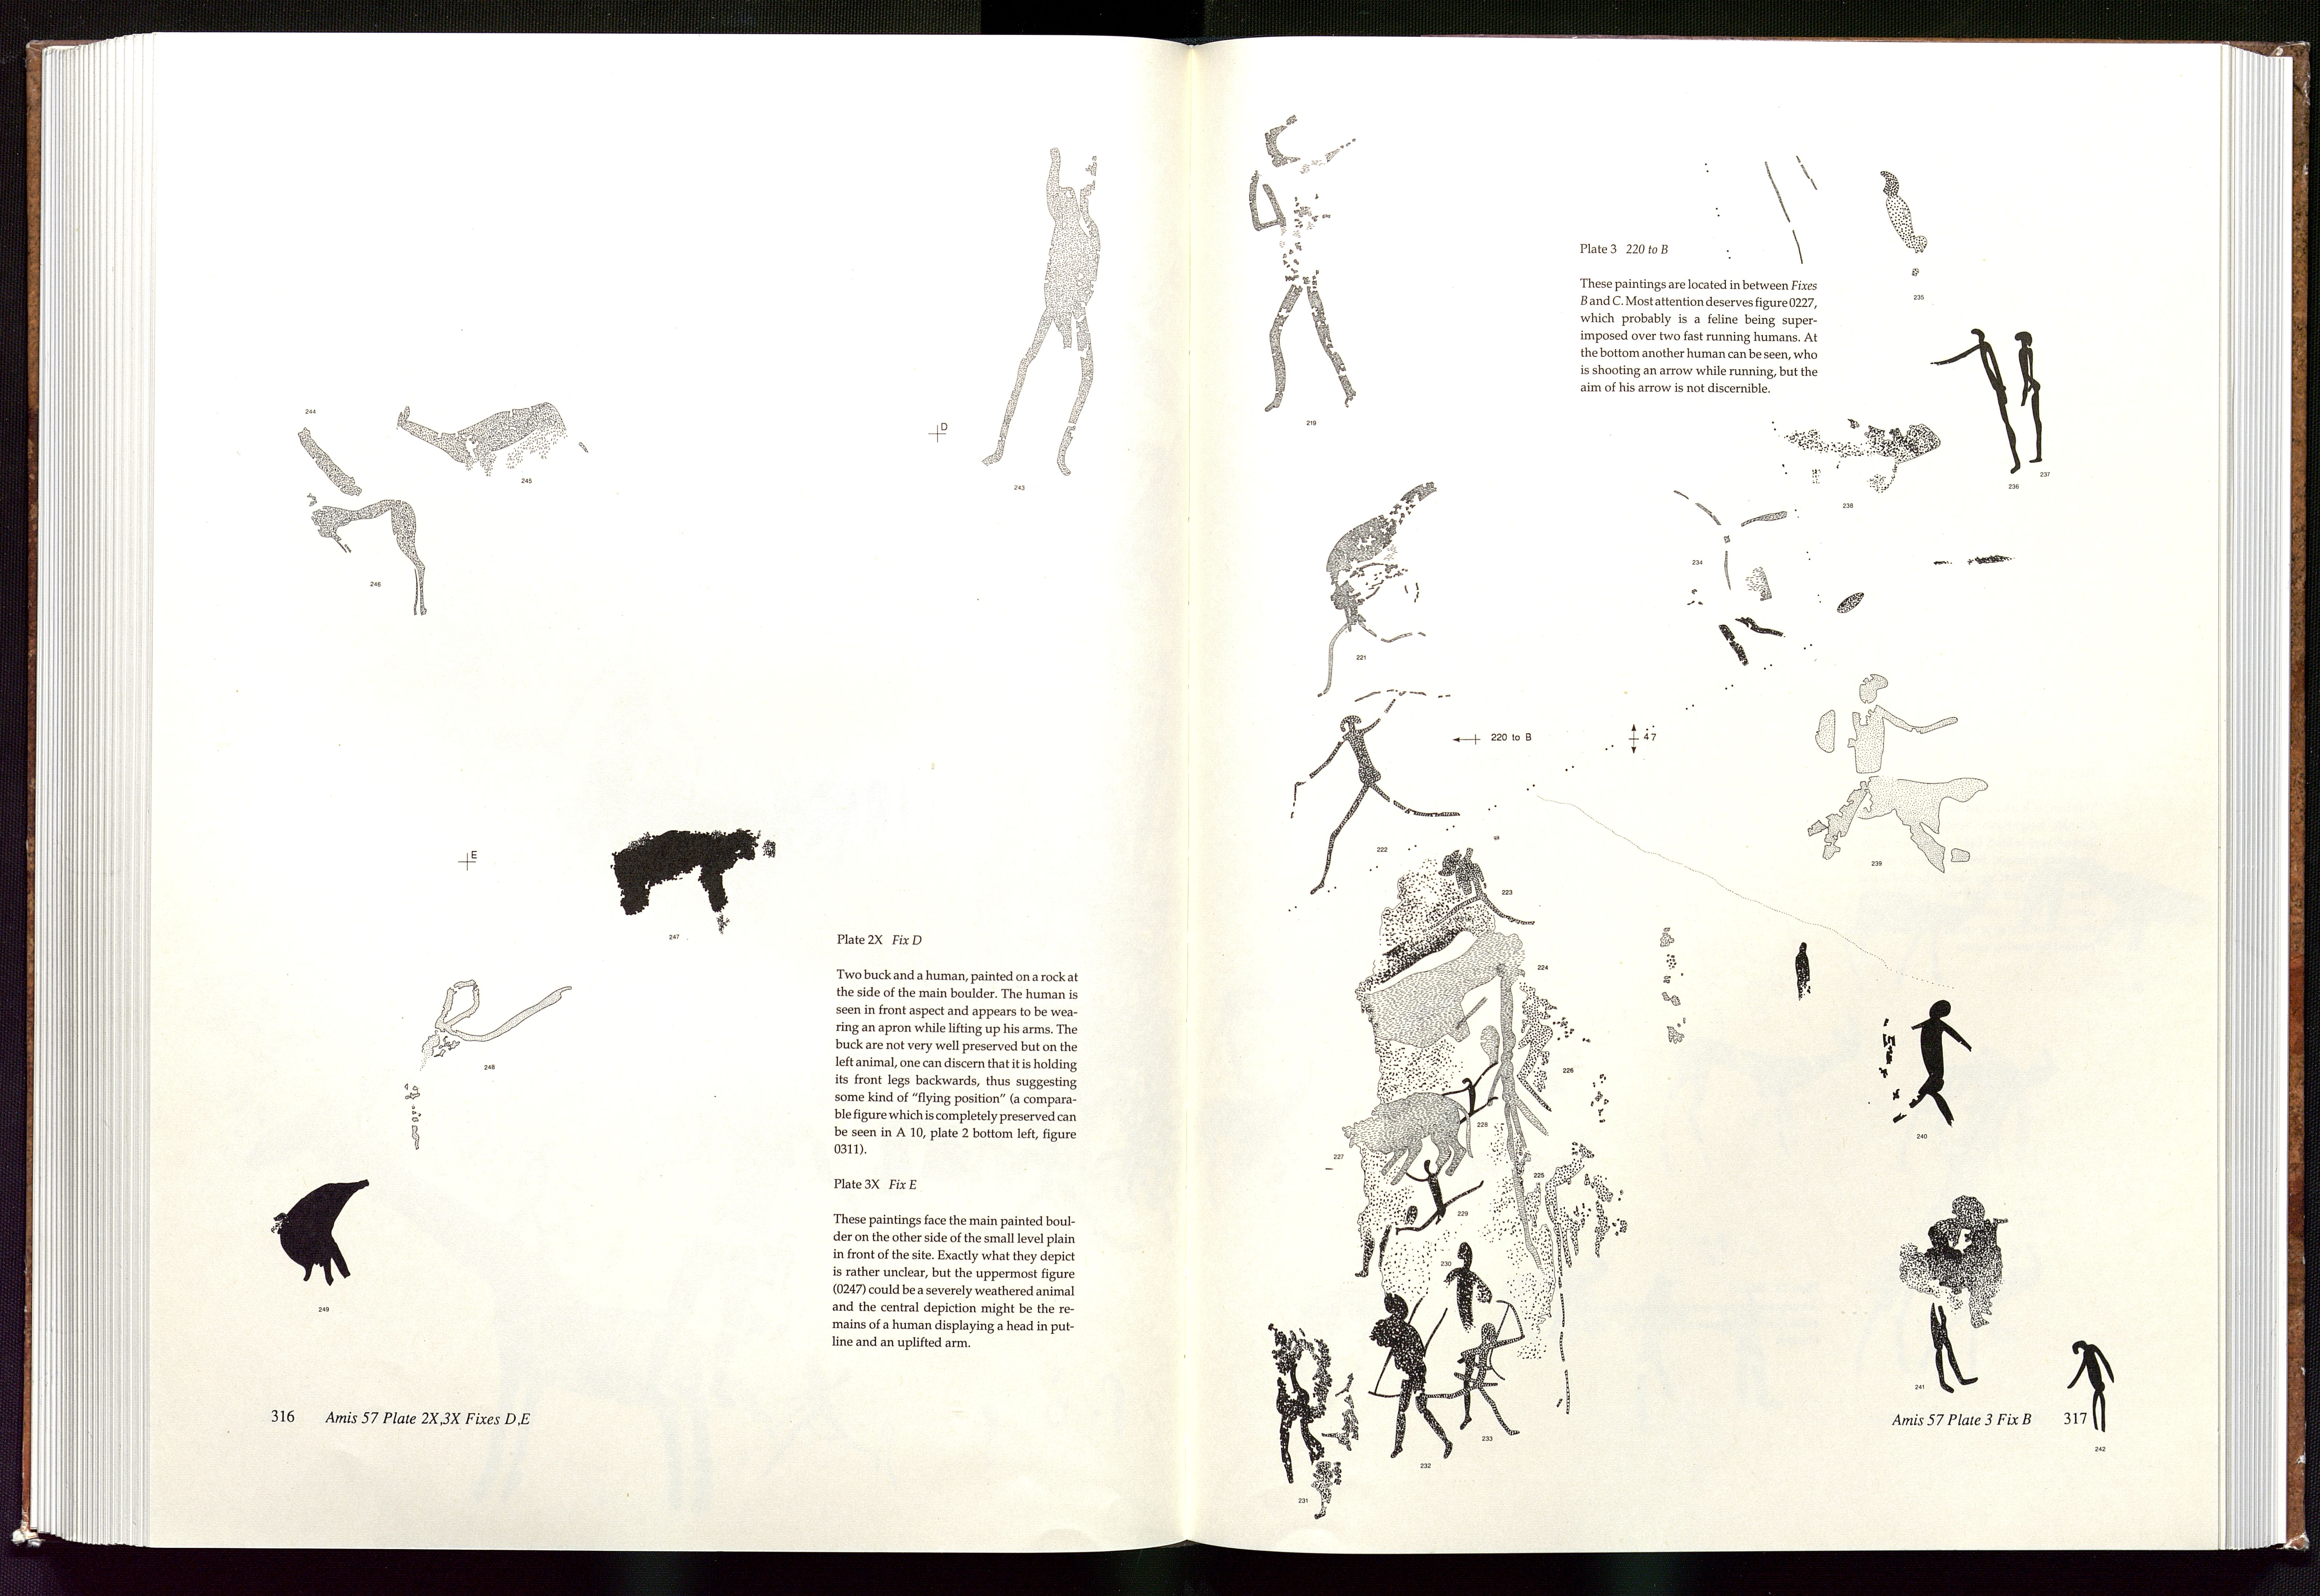animal: (598, 815, 785, 944), (393, 386, 595, 492), (281, 490, 436, 623), (1801, 771, 1993, 870), (1337, 1088, 1468, 1177)
human: (1238, 103, 1376, 416), (981, 141, 1108, 482), (1284, 687, 1471, 895), (1813, 667, 1954, 873), (1424, 1298, 1534, 1454), (1311, 567, 1432, 695), (1364, 1291, 1454, 1462), (1926, 321, 2026, 476), (1911, 1216, 1984, 1400), (1440, 1242, 1502, 1431), (1404, 848, 1541, 931), (1893, 993, 1966, 1133), (1392, 1158, 1485, 1236), (2064, 1334, 2121, 1435), (2014, 315, 2052, 469), (1440, 1058, 1498, 1130)
